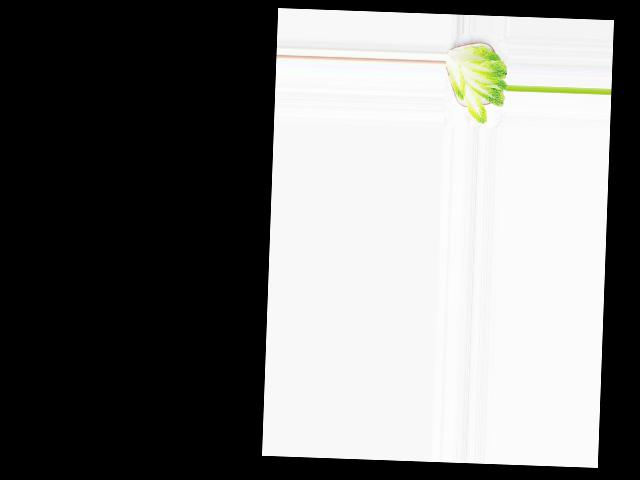lettuce: (445, 40, 510, 126)
